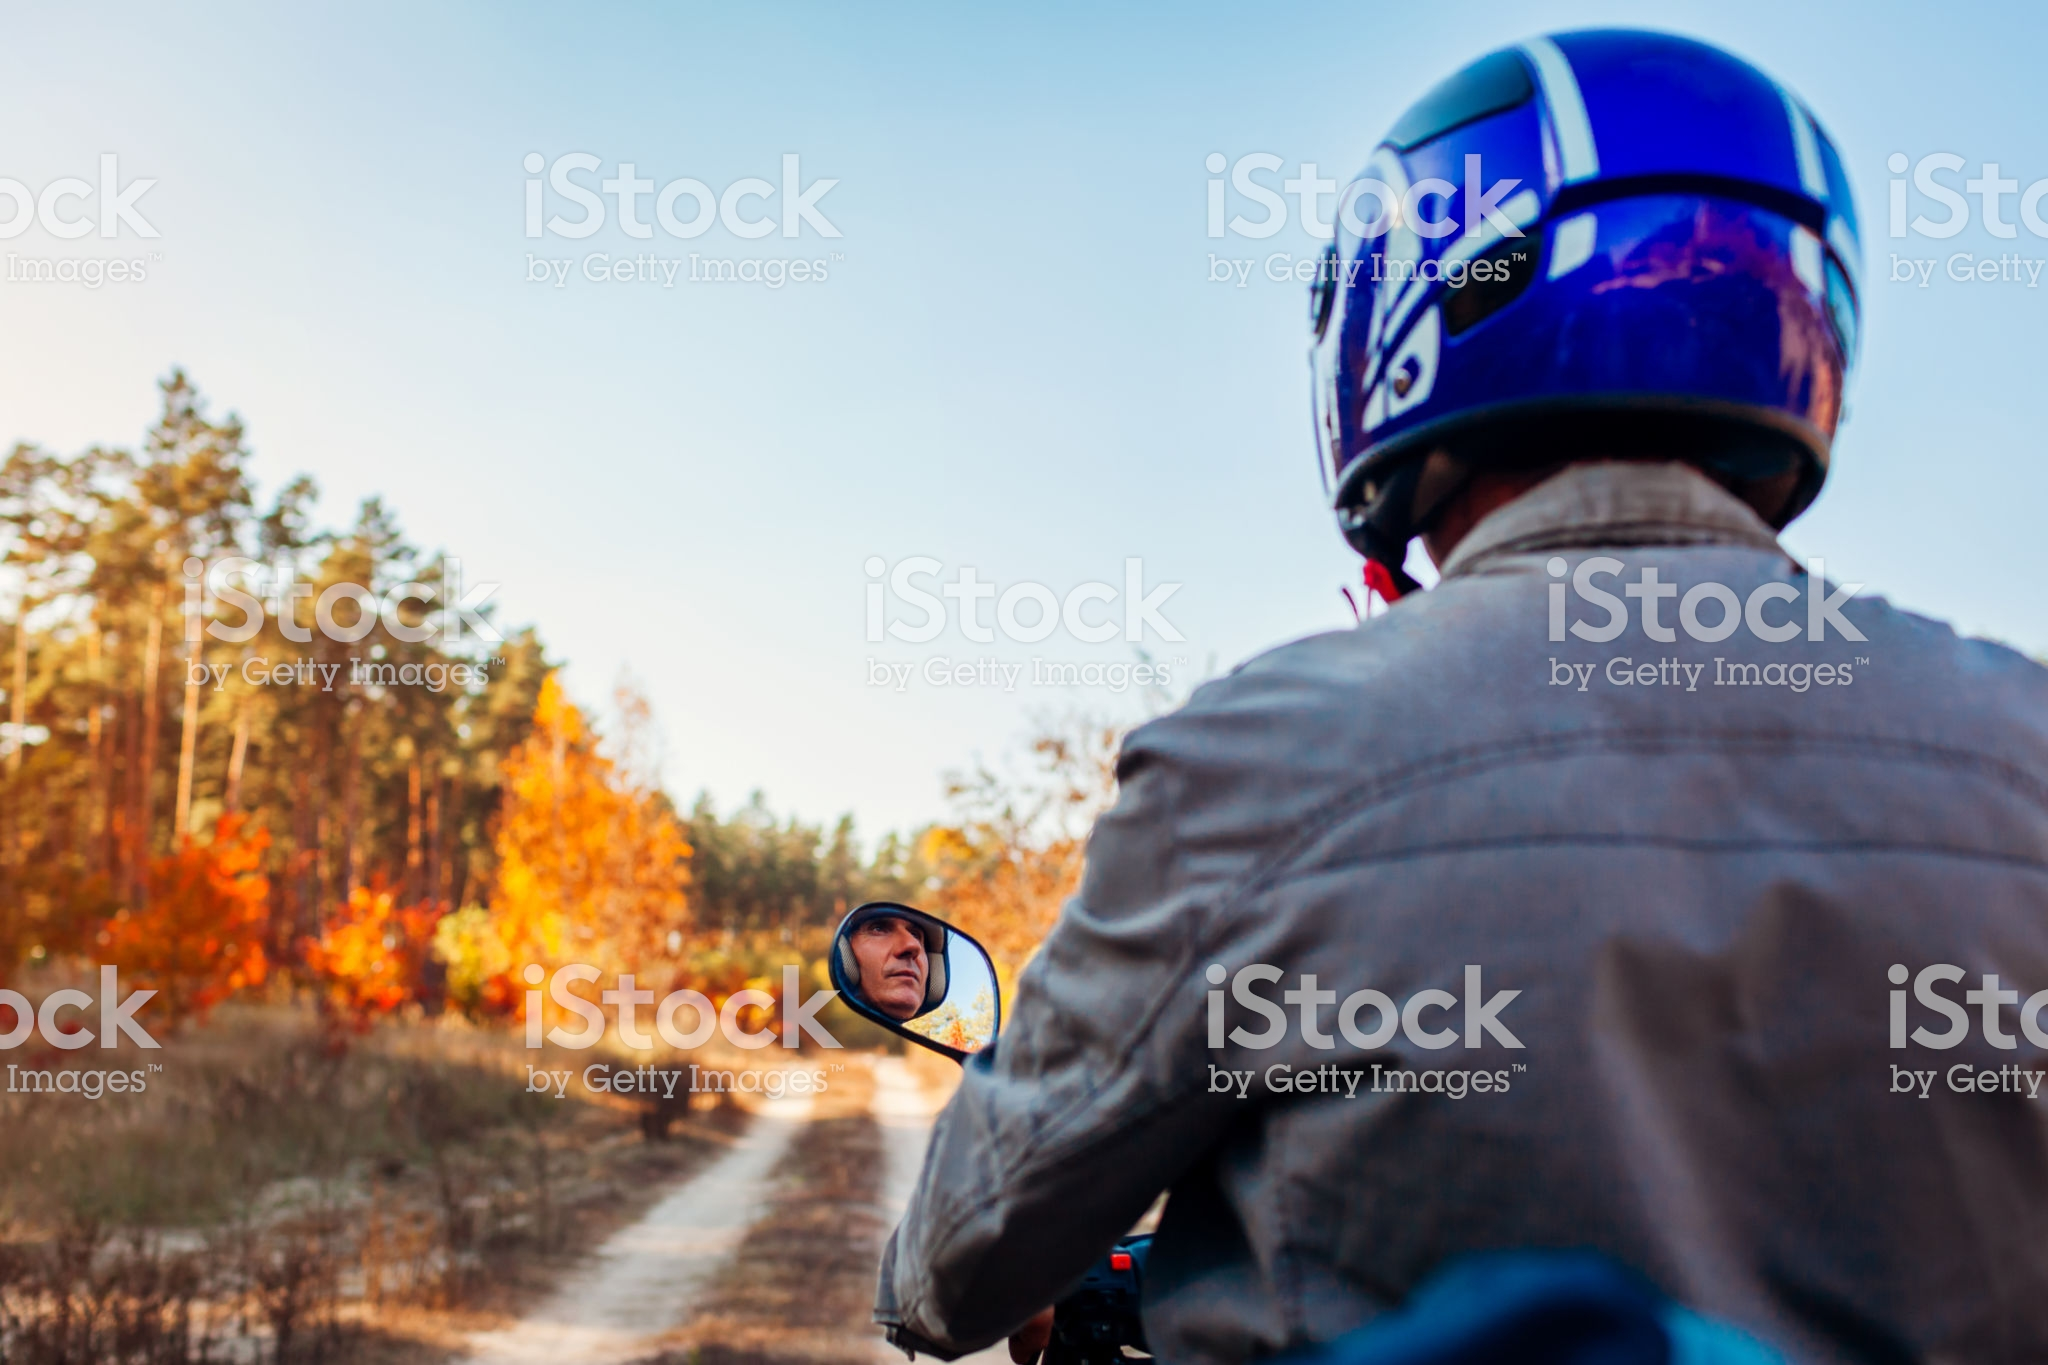helmet: (1329, 61, 1833, 477)
